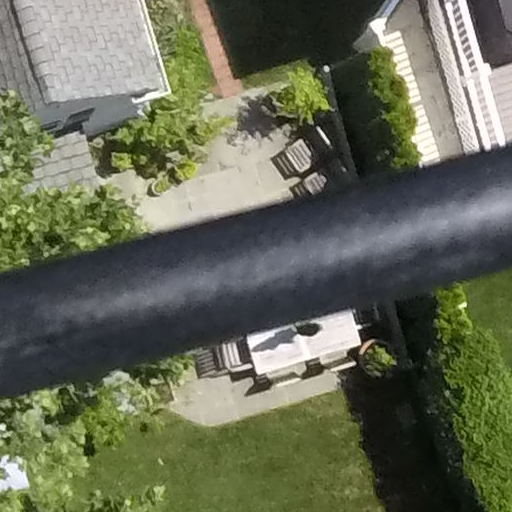flower pot: (263, 73, 323, 123), (357, 337, 398, 378), (145, 174, 175, 197)
